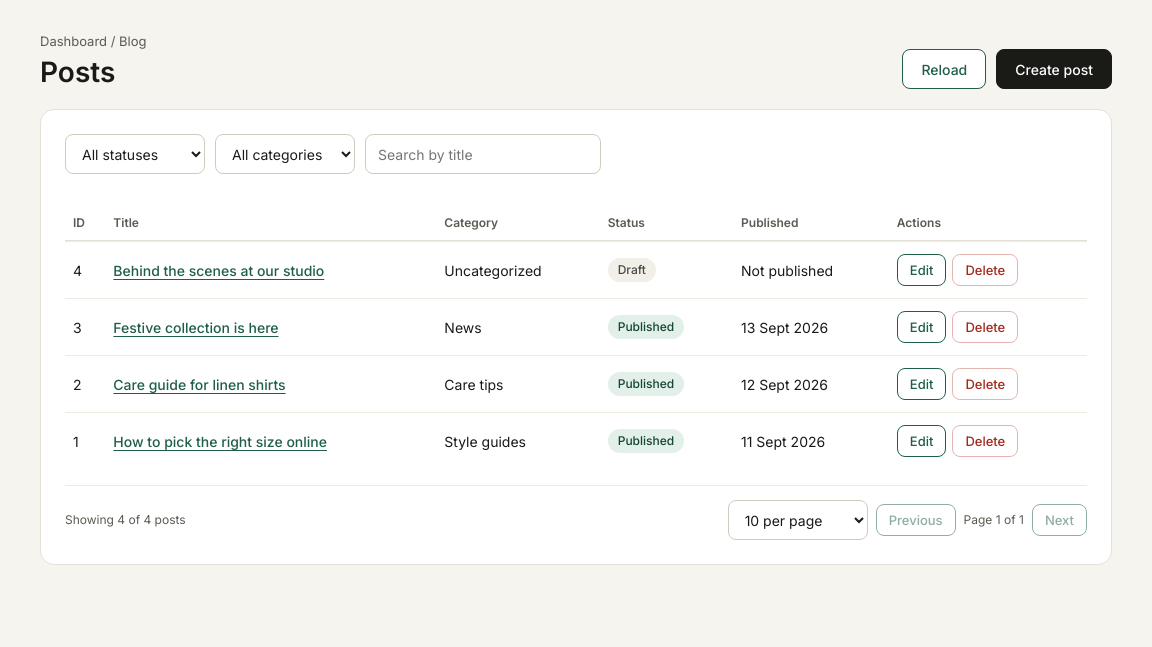
Posts › shows a server permalink conflict on the permalink field
Click the button "Create post" at (1054, 69), box x1=996 y1=49 x2=1112 y2=89
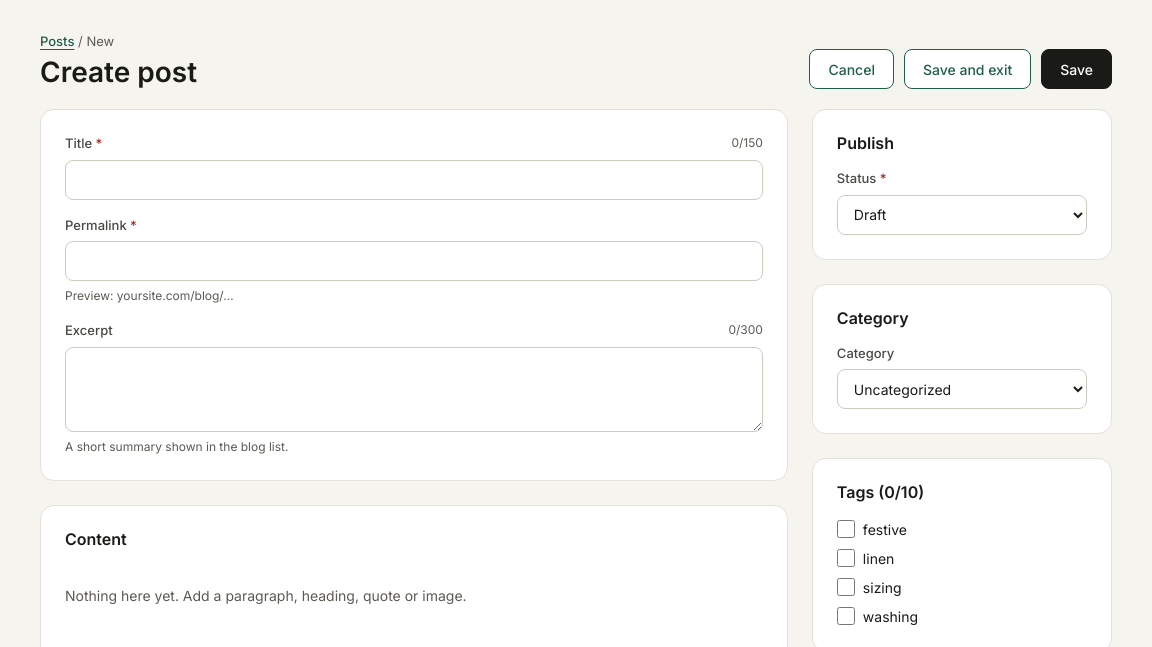
Type "Anything" into the field labelled "Title *" at (414, 180), box x1=65 y1=160 x2=763 y2=200
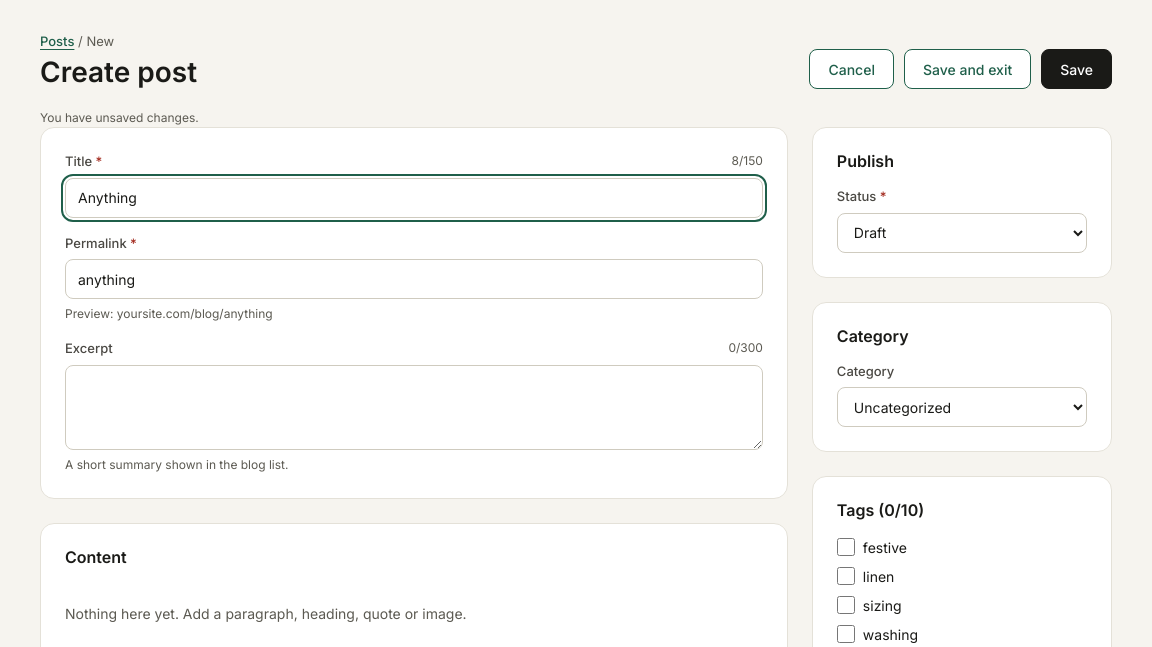
Replace the text in the field labelled "Permalink *" with "behind-the-scenes" at (414, 279), box x1=65 y1=259 x2=763 y2=299
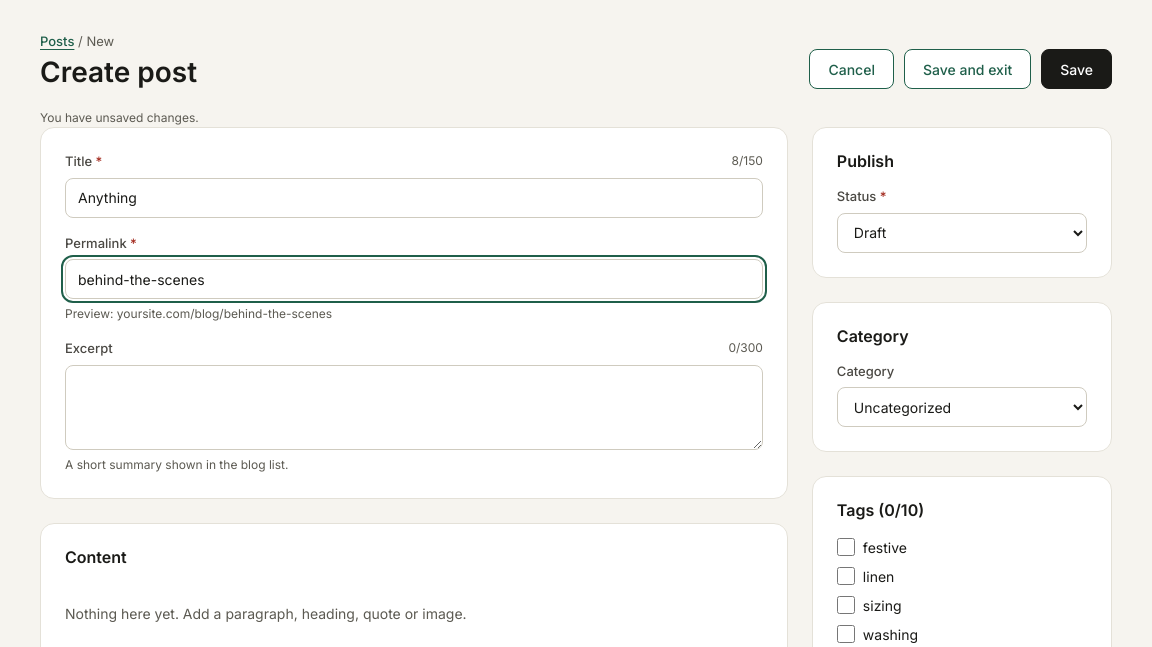
Click the button "Save" at (1077, 69), box x1=1041 y1=49 x2=1112 y2=89
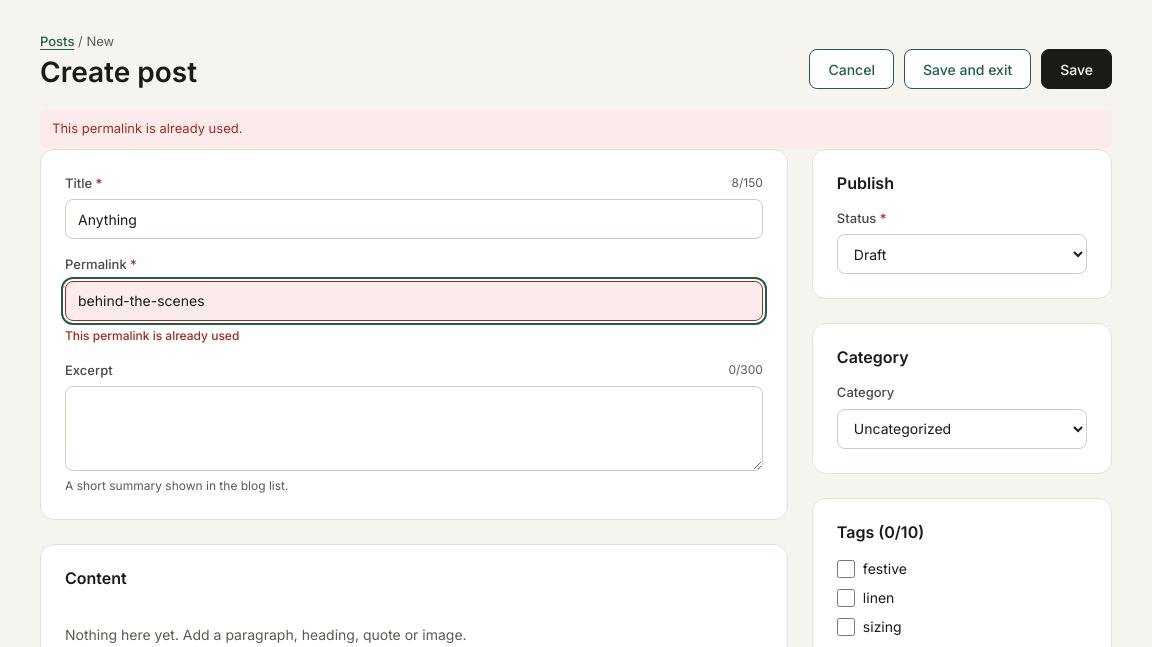
Result: the text "This permalink is already used" is shown at x1=65 y1=328 x2=239 y2=343
